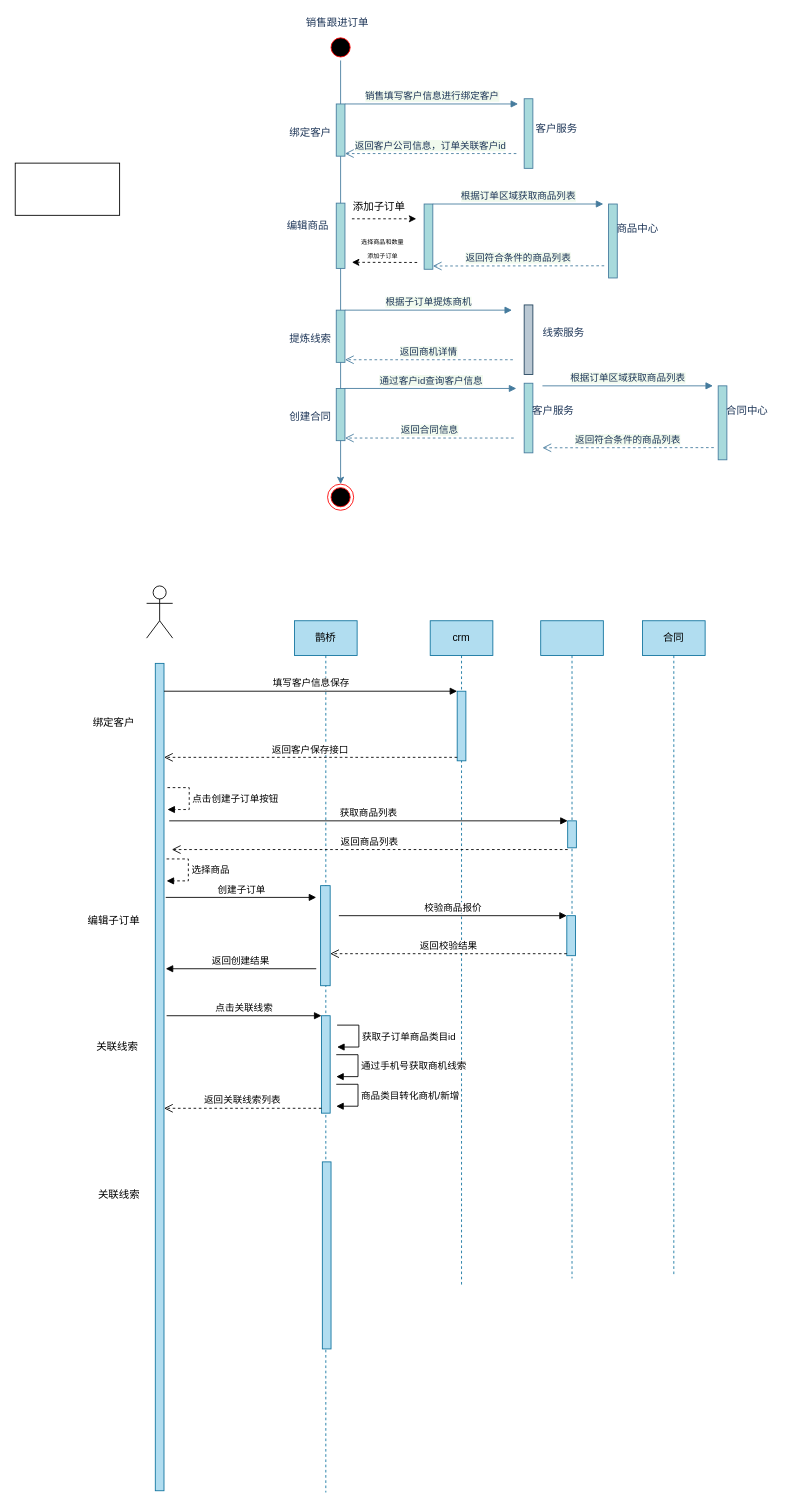
This 787x1508 diagram has some shape labels left out. The shapes that lost their labels are listed below. From the top down, each one's box as (x1, y1, x2, y2) in pixels, then its label:
(146, 585, 173, 638): 销售
(540, 620, 603, 1278): 商品
